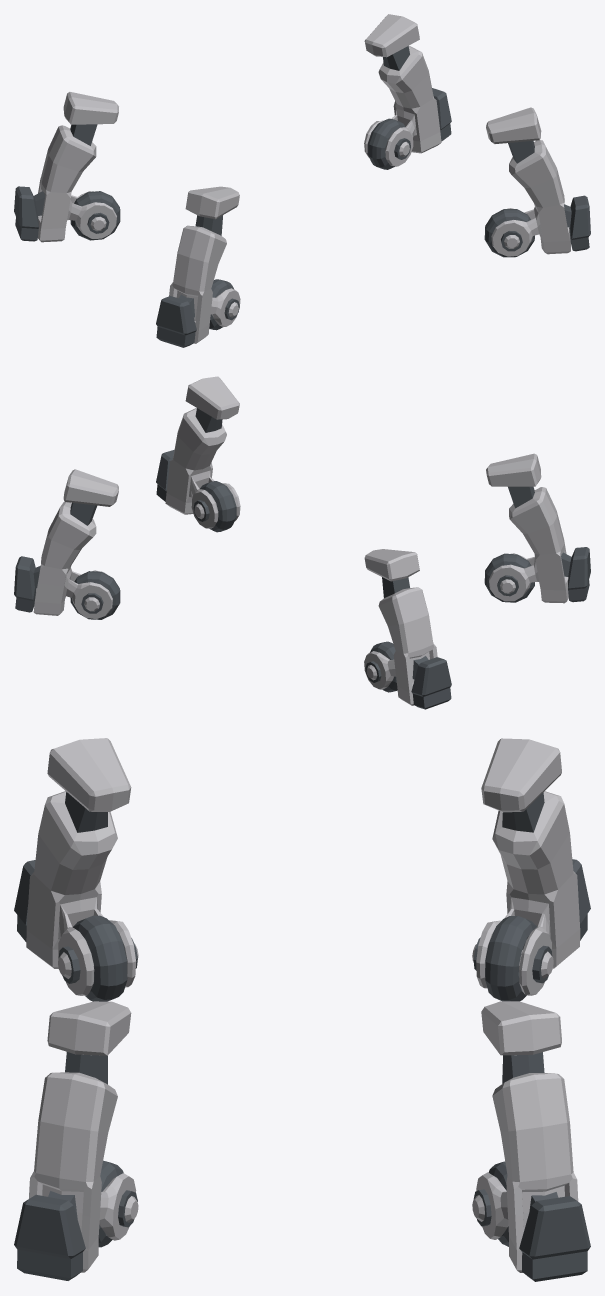
The model's file is Dropship_01_Landers.fbx.
3 renders of one model, top to bottom at view 1: azimuth 30°, elevation 25°; view 2: azimuth 150°, elevation 25°; view 3: azimuth 270°, elevation 25°, orthographic. The views are drawn at different scales.
Parts seen in each view (by area): view 1: Dropship_01_Landers; view 2: Dropship_01_Landers; view 3: Dropship_01_Landers.
Part boxes in pixels (x1,y1,x2,y2): Dropship_01_Landers: (14,14,590,347); Dropship_01_Landers: (14,376,590,709); Dropship_01_Landers: (14,738,590,1281).
Bounding box in the file's own units: 1275 × 402 × 864.
Materials: 1 (1 with a texture image).
